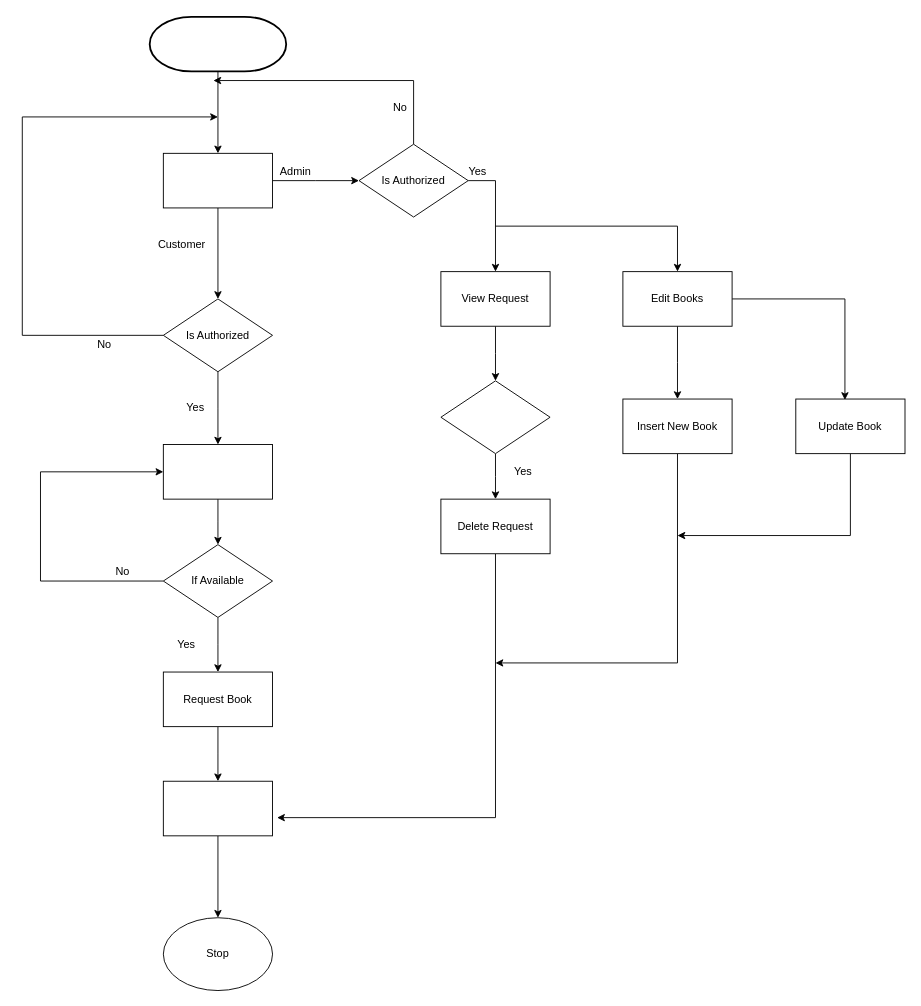
Some shapes in this 921 by 1006 pixel diagram are drawn without their labels. Each missing label, with the centre of its shape:
"If book not available" belongs at (495,417).
"Login" belongs at (217,180).
"Logout" belongs at (217,808).
"Start" belongs at (217,43).
"View Books" belongs at (217,471).
